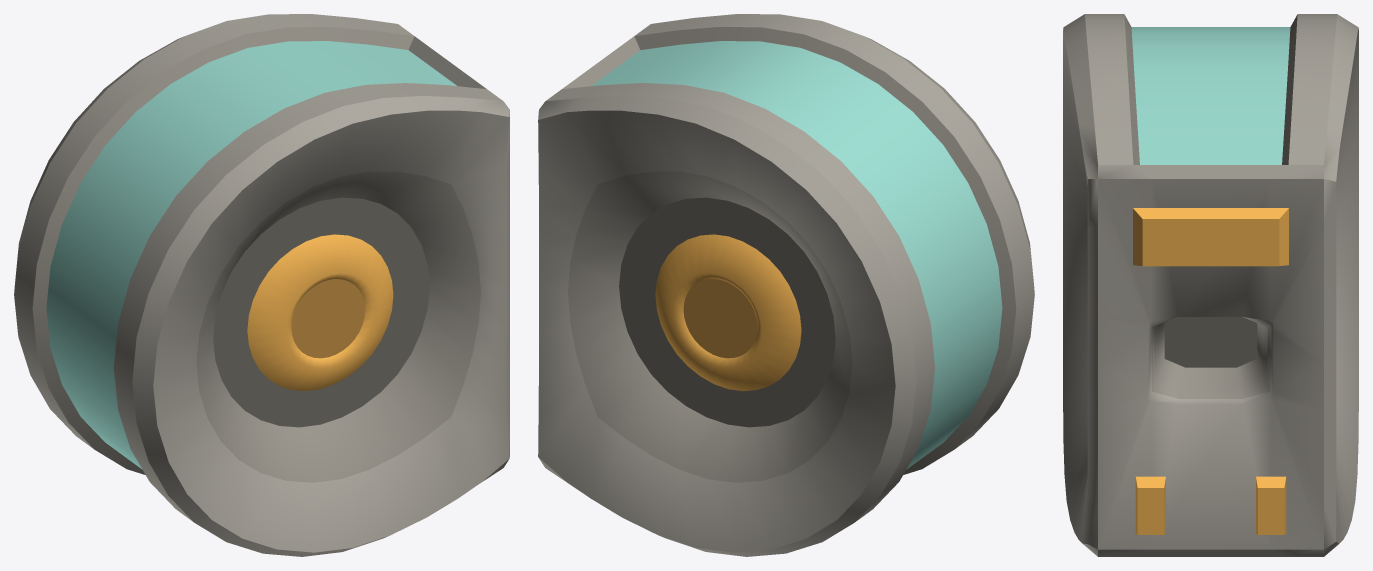
The model's file is Feul Cell.fbx.
3 views of the same model, side by side, from view 1: azimuth 30°, elevation 25°; view 2: azimuth 150°, elevation 25°; view 3: azimuth 270°, elevation 25° (orthographic). The views are drawn at different scales.
Parts seen in each view (by area): view 1: Object010; view 2: Object010; view 3: Object010.
Part boxes in pixels (x1,y1,x2,y2): Object010: [14, 14, 509, 556]; Object010: [538, 14, 1034, 556]; Object010: [1063, 14, 1358, 556].
Size of the model in its own units: 0.6812 by 0.736 by 0.4141.
